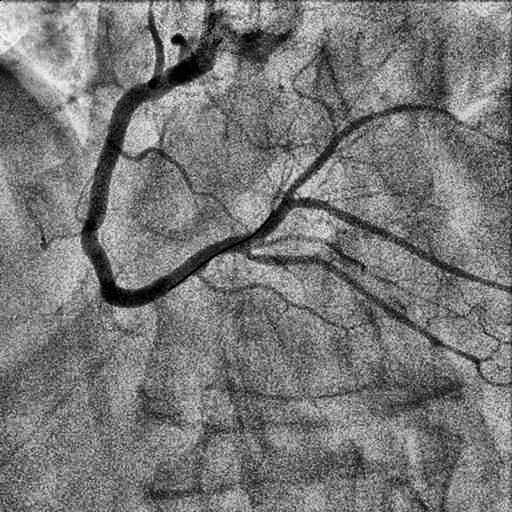pborca: (248, 197, 506, 291)
pda: (234, 248, 484, 378)
rca: (81, 60, 247, 307)
